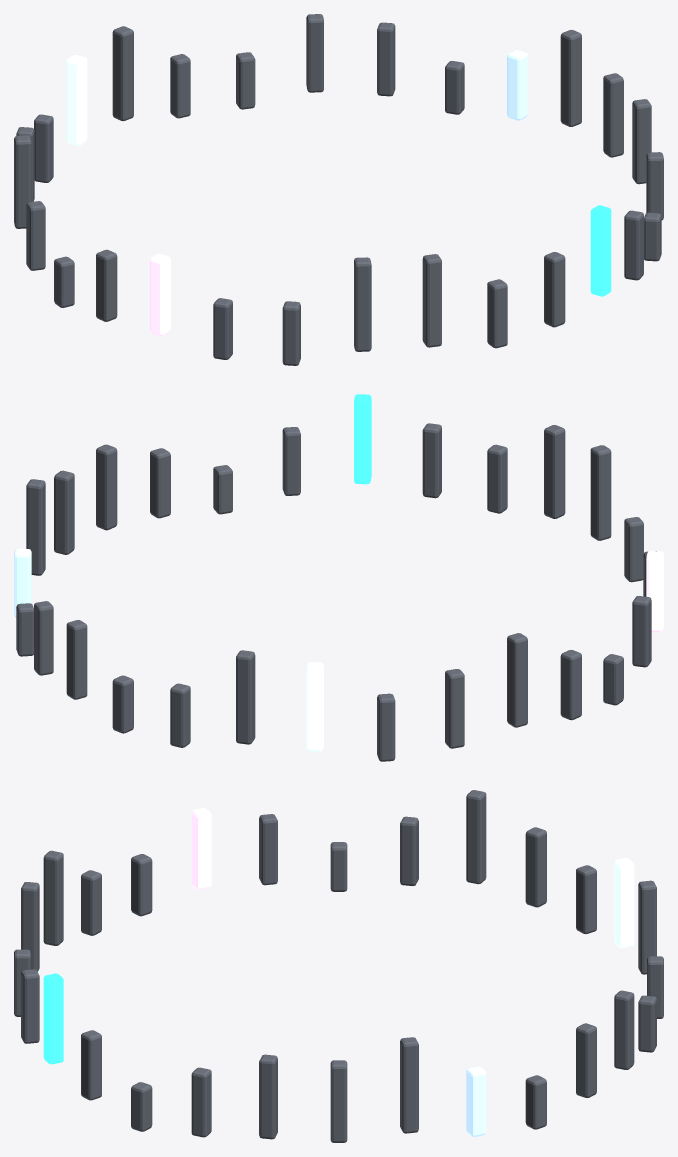
File: hub-bars.glb
3 renders of one model, top to bottom at view 1: azimuth 30°, elevation 25°; view 2: azimuth 150°, elevation 25°; view 3: azimuth 270°, elevation 25°, orthographic.
Parts seen in each view (by area): view 1: Bar01, Bar08, Bar23, Bar09, Bar20, Bar00, Bar19, Bar16, Bar22, Bar12, Bar15, Bar27 (+15 smaller); view 2: Bar19, Bar20, Bar12, Bar08, Bar27, Bar01, Bar00, Bar05, Bar23, Bar09, Bar11, Bar13 (+15 smaller); view 3: Bar19, Bar12, Bar23, Bar09, Bar01, Bar11, Bar16, Bar05, Bar08, Bar27, Bar04, Bar00 (+16 smaller).
Part boxes in pixels (x1,y1,x2,y2): Bar01: [560, 29, 581, 126]; Bar08: [112, 26, 133, 121]; Bar23: [590, 205, 611, 296]; Bar09: [66, 55, 87, 145]; Bar20: [422, 254, 441, 347]; Bar00: [603, 73, 623, 157]; Bar19: [354, 257, 371, 351]; Bar16: [150, 253, 170, 336]; Bar22: [544, 252, 565, 327]; Bar12: [14, 135, 31, 228]; Bar15: [96, 249, 117, 321]; Bar27: [632, 99, 651, 184]; Bar19: [590, 445, 611, 540]; Bar20: [544, 425, 565, 518]; Bar12: [507, 633, 527, 727]; Bar08: [236, 650, 255, 744]; Bar27: [96, 444, 117, 530]; Bar01: [26, 479, 45, 575]; Bar00: [54, 470, 74, 554]; Bar05: [66, 620, 87, 699]; Bar23: [354, 394, 371, 484]; Bar09: [306, 662, 323, 751]; Bar11: [445, 669, 464, 748]; Bar13: [560, 650, 581, 720]; Bar19: [43, 850, 63, 945]; Bar12: [466, 790, 486, 884]; Bar23: [43, 973, 63, 1064]; Bar09: [614, 858, 634, 948]; Bar01: [400, 1037, 418, 1133]; Bar11: [525, 827, 546, 907]; Bar16: [191, 808, 211, 890]; Bar05: [614, 990, 634, 1069]; Bar08: [638, 880, 656, 974]; Bar27: [259, 1054, 277, 1139]; Bar04: [576, 1023, 596, 1097]; Bar00: [330, 1060, 347, 1142].
Size of the model in its own units: 6.16 by 1.2 by 6.16.
